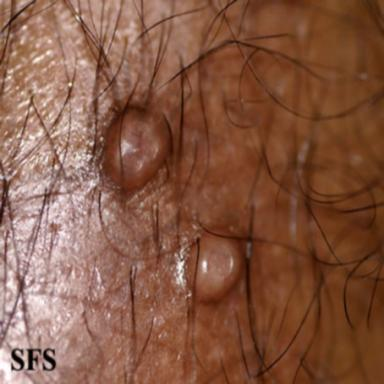Molluscum-Contagiosum: (103, 106, 172, 192), (187, 231, 245, 302)
